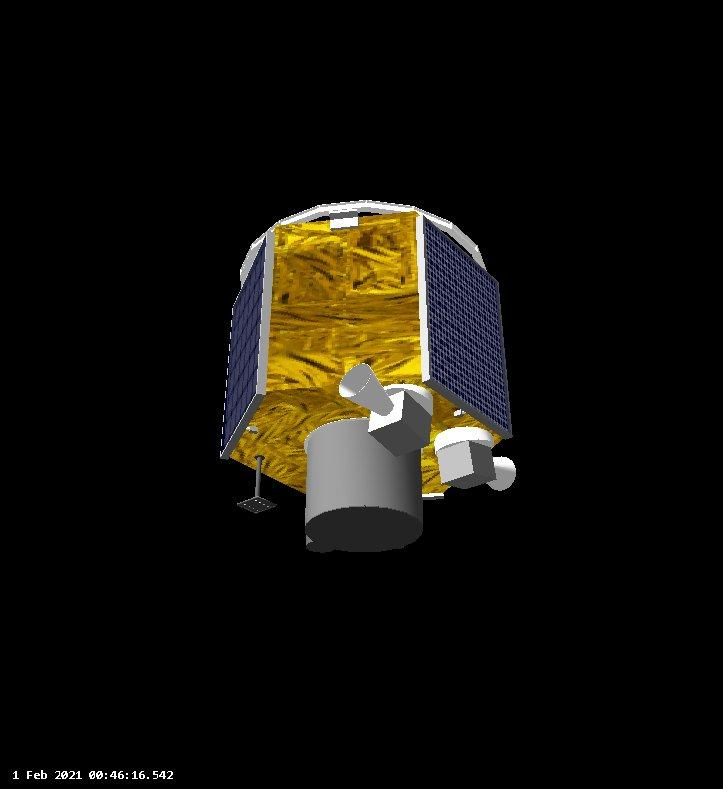antenna: (233, 450, 280, 515)
body: (233, 209, 510, 505)
solar: (414, 209, 516, 442), (214, 226, 270, 465)
thruster: (305, 421, 425, 553), (338, 364, 395, 415), (480, 455, 519, 494)
